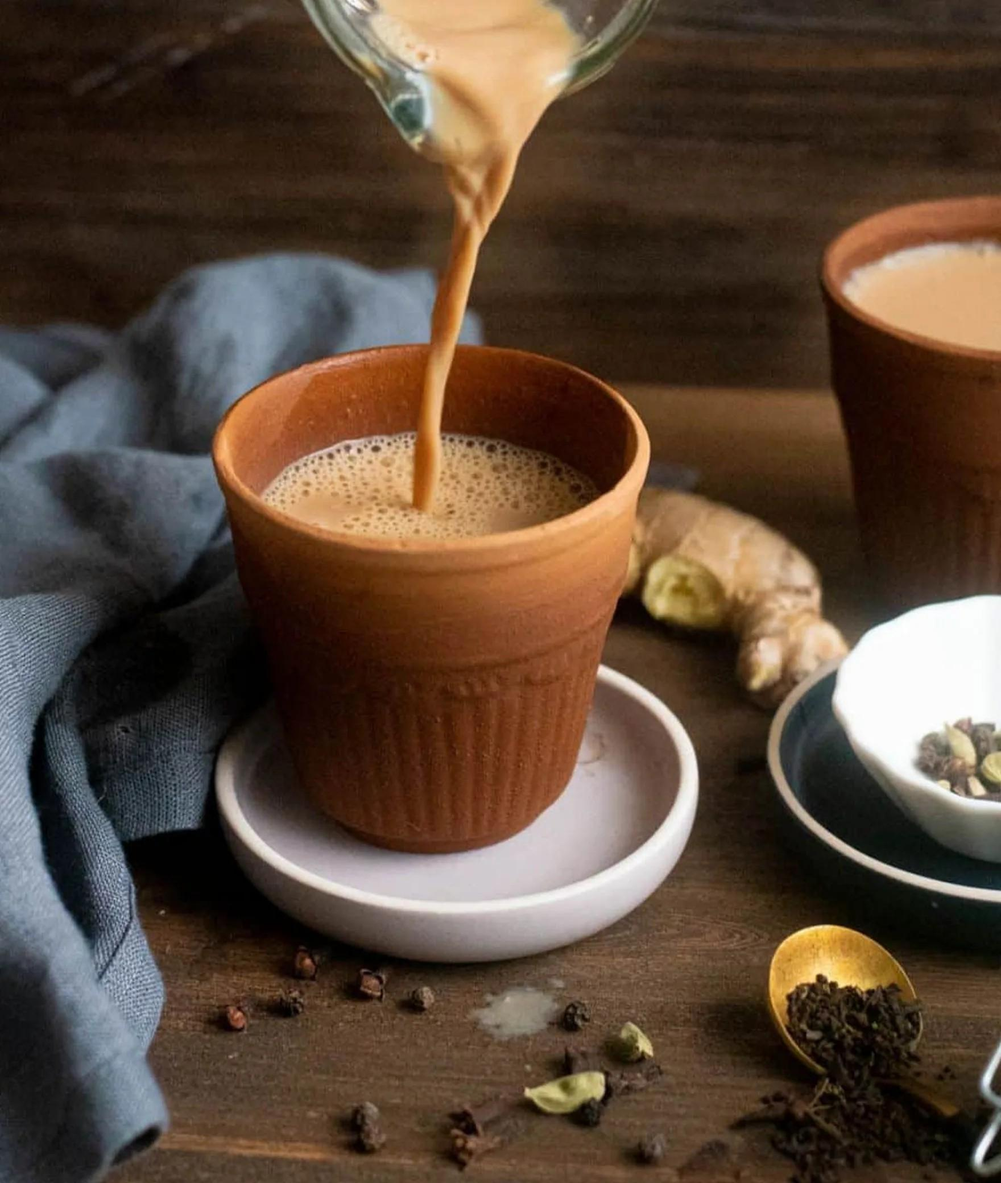Chai: (359, 0, 590, 504), (260, 434, 597, 540), (834, 229, 1001, 364)
